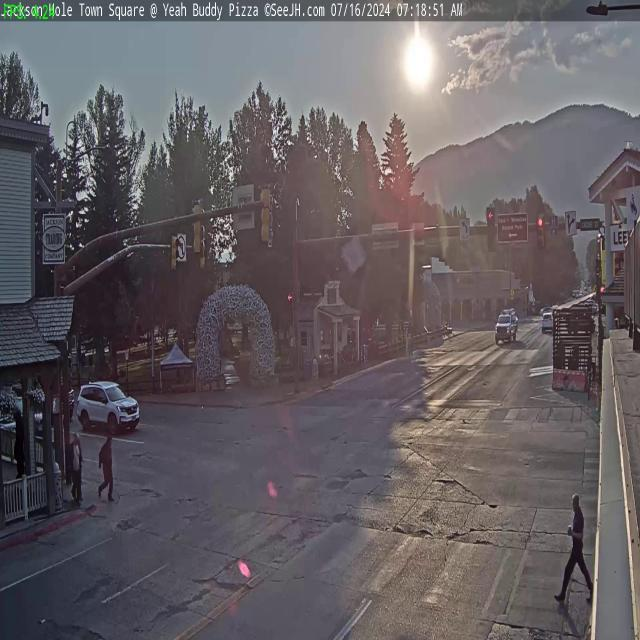person: (562, 490, 592, 600), (98, 416, 114, 500), (70, 432, 82, 500)
suv: (70, 378, 140, 436), (495, 308, 518, 343)
traffic light: (190, 199, 204, 256), (260, 184, 273, 244), (486, 208, 496, 252), (170, 232, 180, 272), (536, 215, 545, 248)
